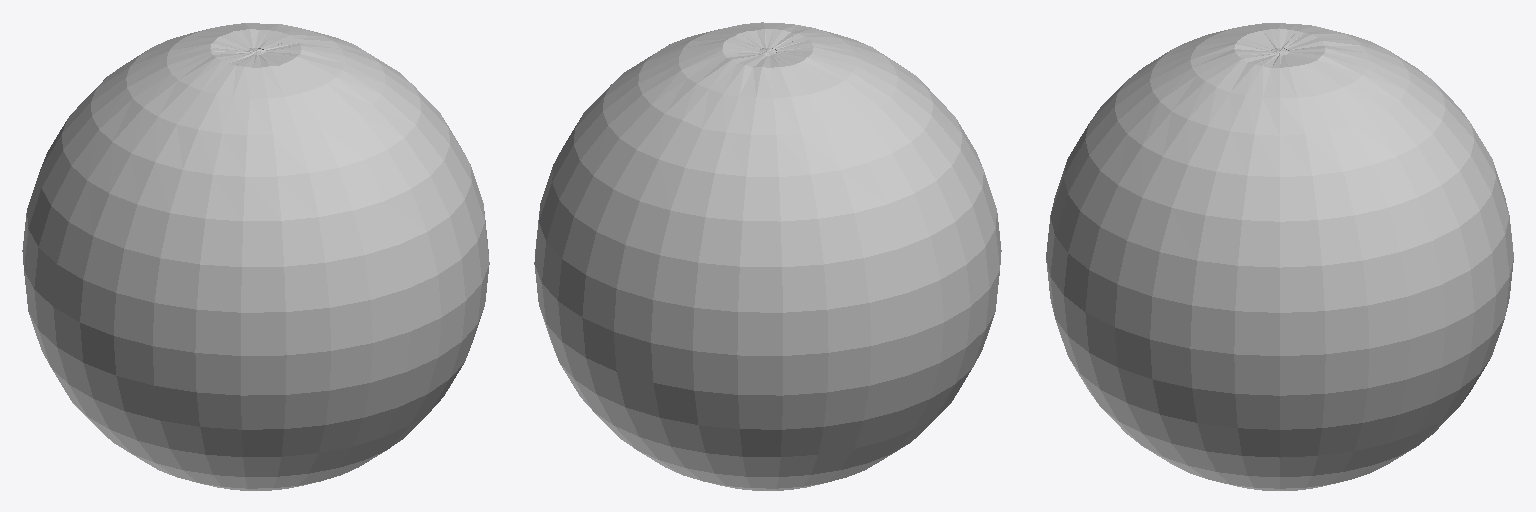
The model's file is orange.obj.
The picture shows the model from 3 angles: view 1: azimuth 30°, elevation 25°; view 2: azimuth 150°, elevation 25°; view 3: azimuth 270°, elevation 25°; orthographic projection.
Parts seen in each view (by area): view 1: Orange_Orange_Skin; view 2: Orange_Orange_Skin; view 3: Orange_Orange_Skin.
Part boxes in pixels (bbox=[...]): Orange_Orange_Skin: bbox=[22, 23, 489, 490]; Orange_Orange_Skin: bbox=[534, 22, 1001, 490]; Orange_Orange_Skin: bbox=[1046, 23, 1513, 490].
Size of the model in its own units: 2 by 1.96 by 2.